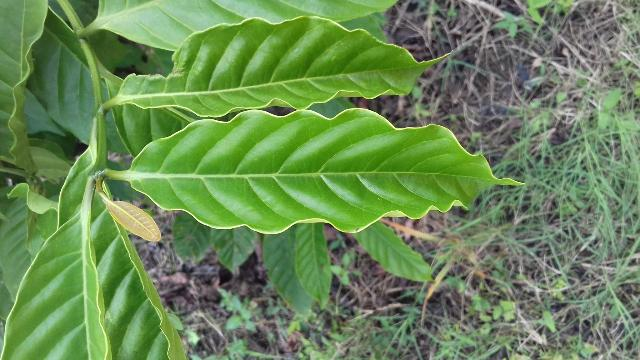healthy: (105, 108, 535, 236)
